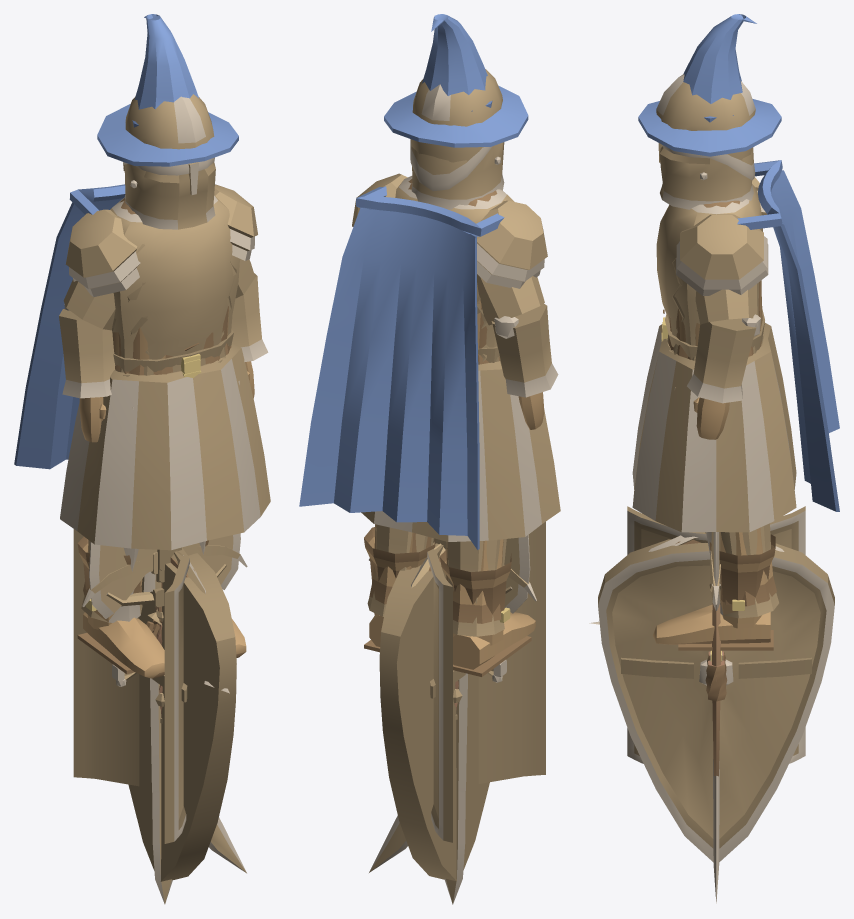
Rendered from equipment.glb.
3 renders of one model, left to right at view 1: azimuth 30°, elevation 25°; view 2: azimuth 150°, elevation 25°; view 3: azimuth 270°, elevation 25°, orthographic. The views are drawn at different scales.
Parts seen in each view (by area): view 1: eq_plateskirt__Hips, eq_kiteshield_mesh, eq_platebody__Spine1, eq_sqshield_mesh, eq_cape__Spine2, eq_fullhelm__Head, eq_hat__Head, eq_platebody__RightArm, eq_battleaxe_mesh, eq_platebody__RightForeArm, eq_boots__RightFoot, eq_platebody__LeftArm (+12 smaller); view 2: eq_cape__Spine2, eq_kiteshield_mesh, eq_sqshield_mesh, eq_plateskirt__Hips, eq_hat__Head, eq_platebody__RightArm, eq_fullhelm__Head, eq_platebody__RightForeArm, eq_boots__RightFoot, eq_boots__RightLeg, eq_platelegs__RightLeg, eq_medhelm__Head (+11 smaller); view 3: eq_kiteshield_mesh, eq_plateskirt__Hips, eq_cape__Spine2, eq_platebody__LeftArm, eq_fullhelm__Head, eq_hat__Head, eq_platebody__Spine1, eq_platebody__LeftForeArm, eq_boots__LeftFoot, eq_sqshield_mesh, eq_boots__LeftLeg, eq_longbow_mesh (+7 smaller).
Boxes of the visible parts, x1,y1,x2,y2 form: eq_plateskirt__Hips: [60, 343, 270, 550]; eq_kiteshield_mesh: [128, 553, 236, 881]; eq_platebody__Spine1: [110, 195, 239, 376]; eq_sqshield_mesh: [73, 529, 189, 843]; eq_cape__Spine2: [14, 184, 215, 469]; eq_fullhelm__Head: [124, 94, 215, 229]; eq_hat__Head: [97, 14, 238, 166]; eq_platebody__RightArm: [63, 209, 140, 330]; eq_battleaxe_mesh: [89, 533, 240, 723]; eq_platebody__RightForeArm: [59, 304, 115, 398]; eq_boots__RightFoot: [77, 612, 164, 678]; eq_platebody__LeftArm: [214, 184, 257, 298]; eq_cape__Spine2: [299, 186, 504, 549]; eq_kiteshield_mesh: [379, 562, 489, 881]; eq_sqshield_mesh: [427, 521, 545, 842]; eq_plateskirt__Hips: [361, 354, 560, 541]; eq_hat__Head: [384, 14, 528, 147]; eq_platebody__RightArm: [477, 200, 547, 325]; eq_fullhelm__Head: [411, 69, 504, 209]; eq_platebody__RightForeArm: [491, 303, 558, 397]; eq_boots__RightFoot: [453, 612, 535, 676]; eq_boots__RightLeg: [440, 549, 511, 645]; eq_platelegs__RightLeg: [446, 539, 506, 636]; eq_medhelm__Head: [410, 139, 492, 191]; eq_kiteshield_mesh: [598, 539, 834, 862]; eq_plateskirt__Hips: [632, 317, 796, 532]; eq_cape__Spine2: [737, 160, 839, 511]; eq_platebody__LeftArm: [676, 214, 768, 324]; eq_fullhelm__Head: [656, 74, 755, 209]; eq_hat__Head: [638, 14, 781, 156]; eq_platebody__Spine1: [656, 184, 764, 359]; eq_platebody__LeftForeArm: [687, 314, 760, 403]; eq_boots__LeftFoot: [653, 604, 773, 650]; eq_sqshield_mesh: [627, 506, 805, 763]; eq_boots__LeftLeg: [709, 534, 775, 628]; eq_longbow_mesh: [705, 603, 727, 776].
Size of the model in its own units: 0.7039 by 2.98 by 0.788.
